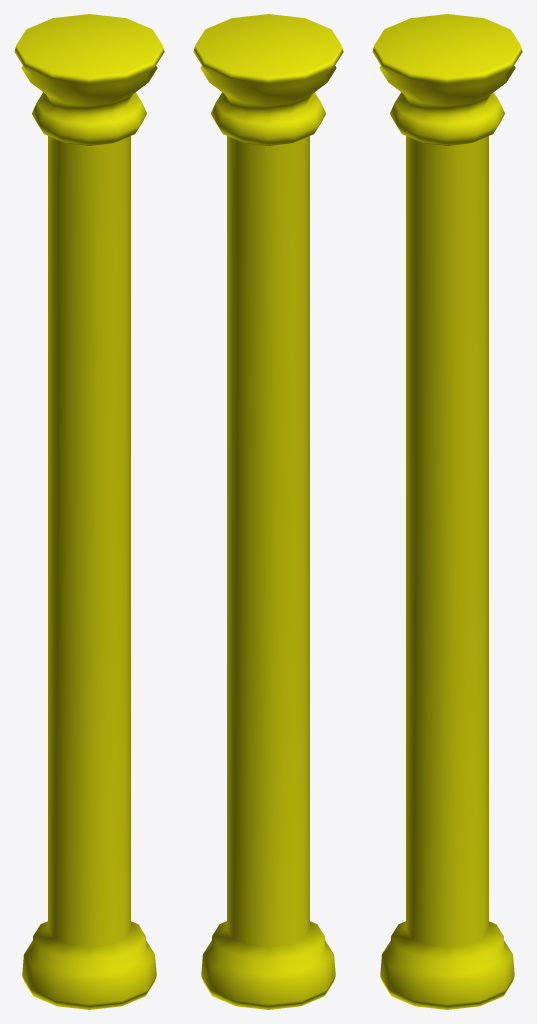
Rendered from S_Pillar_03.fbx.
The picture shows the model from 3 angles, left to right: view 1: azimuth 30°, elevation 25°; view 2: azimuth 150°, elevation 25°; view 3: azimuth 270°, elevation 25°; orthographic projection.
Parts seen in each view (by area): view 1: S_Pillar_03; view 2: S_Pillar_03; view 3: S_Pillar_03.
Boxes of the visible parts, left/top/right/bottom form: S_Pillar_03: left=14, top=14, right=164, bottom=1009; S_Pillar_03: left=193, top=14, right=343, bottom=1009; S_Pillar_03: left=372, top=14, right=522, bottom=1009.
Bounding box in the file's own units: 47.93 × 330 × 47.93.
